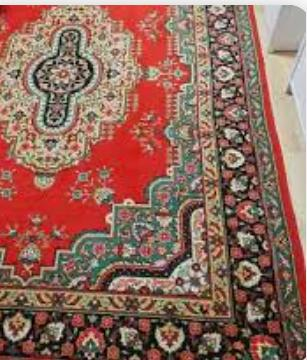carpet: (1, 6, 304, 360)
